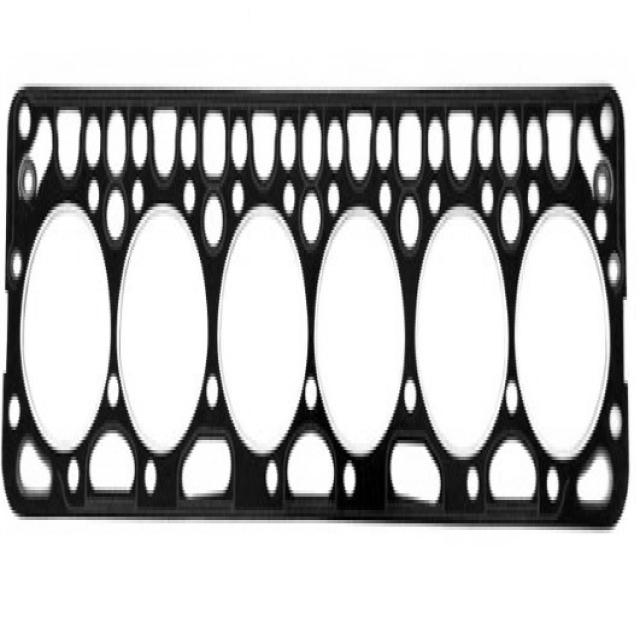missing hole: (16, 200, 36, 244)
